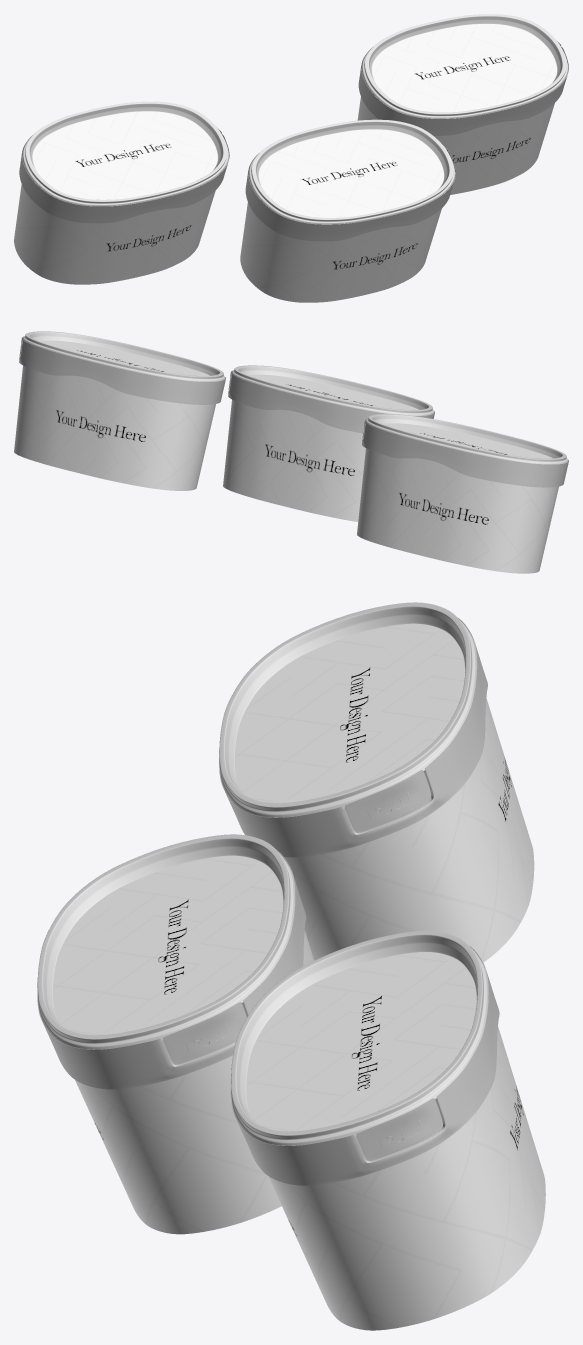
The model's file is oval Angle-5.glb.
3 views of the same model, one above another, from view 1: azimuth 30°, elevation 25°; view 2: azimuth 150°, elevation 25°; view 3: azimuth 270°, elevation 25° (orthographic). The views are drawn at different scales.
Visible parts, largest first — view 1: wrapper, wrapper.002, wrapper.001, Bottom.006, Bottom.001, Bottom.009, Bottom.007, Bottom.011, Bottom.004; view 2: wrapper.002, wrapper.001, wrapper, Bottom.011, Bottom.004, Bottom.007, Bottom.006, Bottom.001, Bottom.009; view 3: wrapper.001, wrapper.002, wrapper, Bottom.004, Bottom.001, Bottom.006, Bottom.009, Bottom.011, Bottom.007.
Part boxes in pixels (x1,y1,x2,y2): wrapper: (240, 129, 443, 302); wrapper.002: (14, 111, 217, 284); wrapper.001: (357, 24, 556, 194); Bottom.006: (22, 101, 228, 206); Bottom.001: (361, 14, 568, 118); Bottom.009: (248, 119, 455, 224); Bottom.007: (245, 146, 455, 241); Bottom.011: (19, 127, 229, 223); Bottom.004: (358, 40, 568, 135); wrapper.002: (357, 423, 558, 573); wrapper.001: (14, 340, 215, 490); wrapper: (223, 374, 418, 521); Bottom.011: (362, 419, 568, 487); Bottom.004: (19, 336, 225, 404); Bottom.007: (228, 370, 434, 433); Bottom.006: (365, 414, 568, 464); Bottom.001: (22, 331, 225, 381); Bottom.009: (231, 365, 434, 415); wrapper.001: (246, 952, 545, 1330); wrapper.002: (235, 623, 534, 962); wrapper: (53, 855, 313, 1234); Bottom.004: (230, 945, 499, 1185); Bottom.001: (231, 930, 488, 1145); Bottom.006: (219, 602, 476, 817); Bottom.009: (37, 834, 295, 1049); Bottom.011: (219, 617, 487, 857); Bottom.007: (37, 849, 306, 1089).
Bounding box in the file's own units: 0.3862 × 0.118 × 0.1608.
5 materials, 3 textured.
